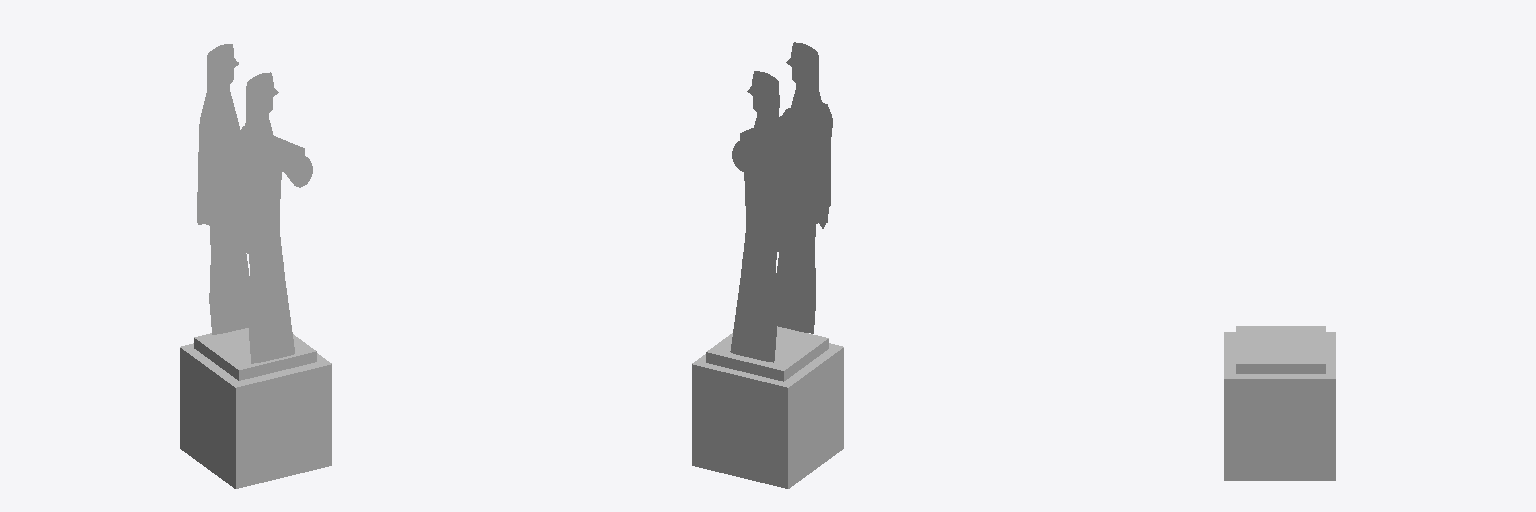
The model's file is chapel_statues.obj.
The picture shows the model from 3 angles: view 1: azimuth 30°, elevation 25°; view 2: azimuth 150°, elevation 25°; view 3: azimuth 270°, elevation 25°; orthographic projection.
Parts seen in each view (by area): view 1: Cube.001; view 2: Cube.001; view 3: Cube.001.
Part boxes in pixels (left/top/right/bottom): Cube.001: left=180, top=44, right=331, bottom=488; Cube.001: left=692, top=42, right=843, bottom=488; Cube.001: left=1224, top=326, right=1335, bottom=480.
Size of the model in its own units: 5.12 by 20.29 by 5.12.